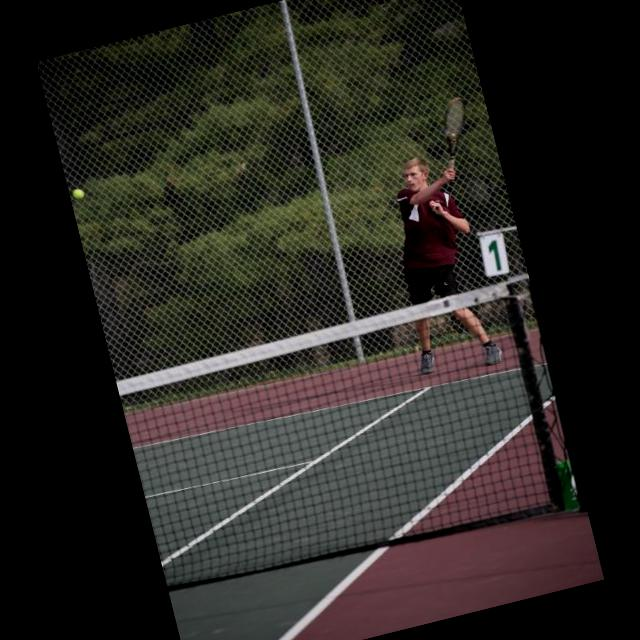tennis-ball: (69, 187, 83, 200)
